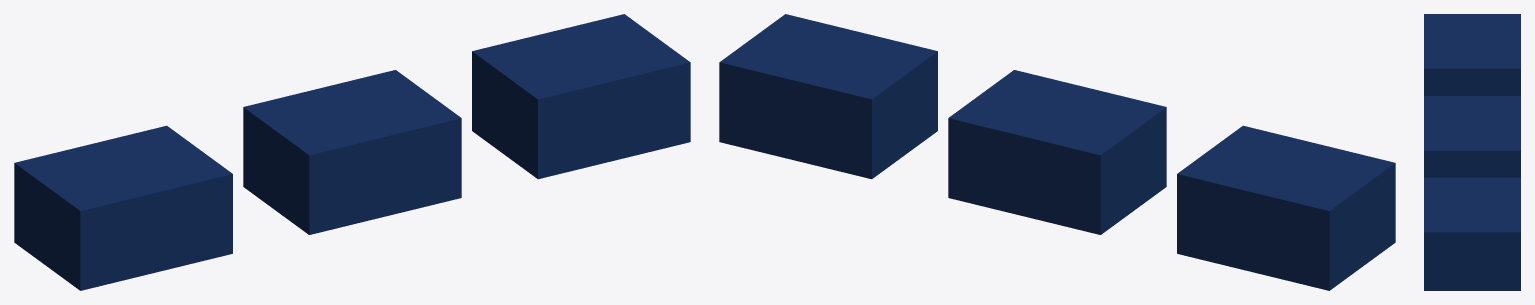
The picture shows the model from 3 angles, left to right: view 1: azimuth 30°, elevation 25°; view 2: azimuth 150°, elevation 25°; view 3: azimuth 270°, elevation 25°; orthographic projection. The views are drawn at different scales.
Visible parts, largest first — view 1: row-2, row-1, row-3; view 2: row-2, row-1, row-3; view 3: row-3, row-1, row-2.
Boxes of the visible parts, x1,y1,x2,y2 form: row-2: (243, 70, 461, 234); row-1: (14, 125, 232, 290); row-3: (472, 14, 690, 179); row-2: (948, 70, 1166, 234); row-1: (1177, 125, 1395, 290); row-3: (719, 14, 937, 179); row-3: (1424, 177, 1520, 290); row-1: (1424, 14, 1520, 95); row-2: (1424, 96, 1520, 177).
Bounding box in the file's own units: 160 × 20 × 30.
